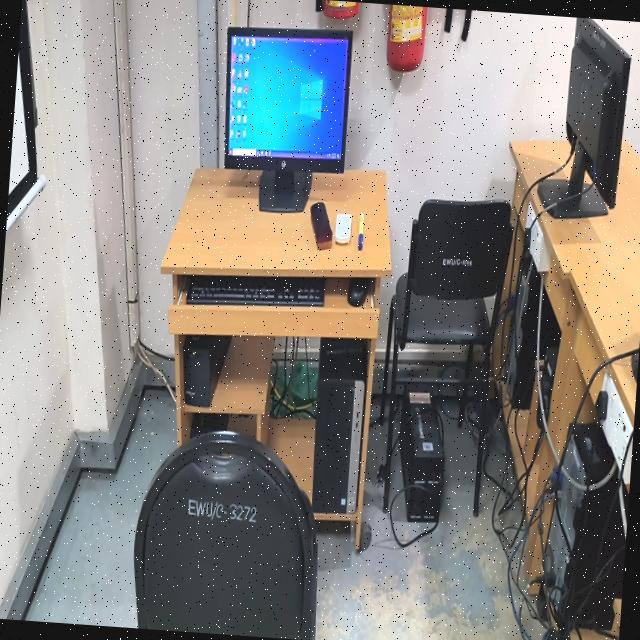Chair: (134, 432, 317, 640), (389, 199, 511, 349)
Cpu: (543, 423, 625, 627), (312, 338, 366, 517), (511, 256, 540, 409), (540, 293, 560, 358)
Fire Extinguisher: (387, 4, 427, 72), (323, 0, 359, 18)
Keyboard: (186, 276, 324, 306)
Monitor: (224, 27, 352, 212), (537, 17, 630, 218)
Mouse: (347, 277, 372, 306)
